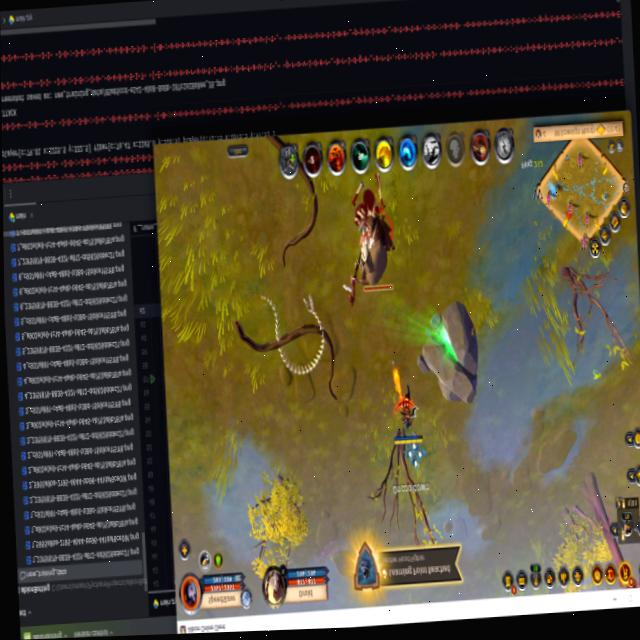hide: (401, 428, 428, 474)
ore: (230, 311, 343, 415), (266, 135, 325, 276), (341, 207, 399, 312)
red: (388, 377, 424, 451)
